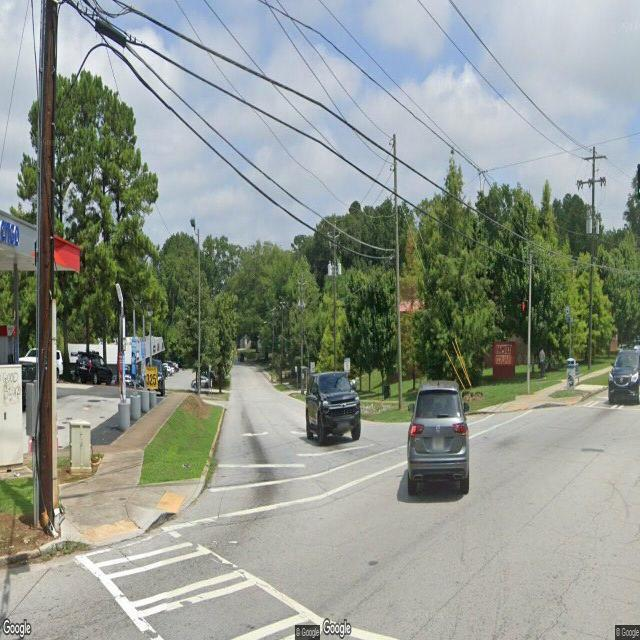seating: (575, 362, 583, 383)
trash_can: (566, 358, 576, 391)
